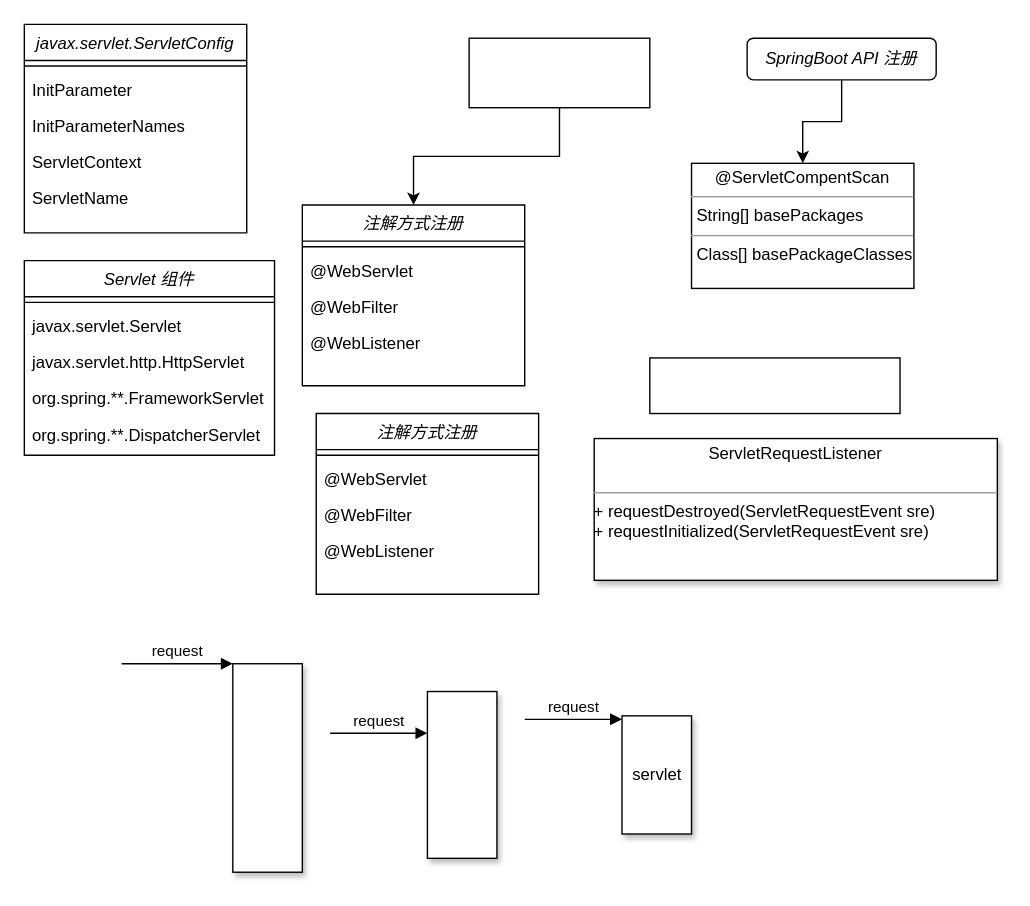
Image size: 1030x906. Some labels were removed from this diagram. The centre of each missing label's shape, as x and y in pixels:
filter: point (462, 776)
listener: point (268, 769)
Serverlet 组件扫描 (3.0): point (559, 72)
ServletRequestListener: point (774, 385)
